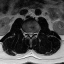CCS_normal: (29, 29, 32, 39)
LFS_stenosis: (34, 29, 36, 36)
LLS_normal: (32, 29, 34, 37)
RFS_stenosis: (25, 29, 27, 36)
RLS_normal: (27, 30, 29, 37)
